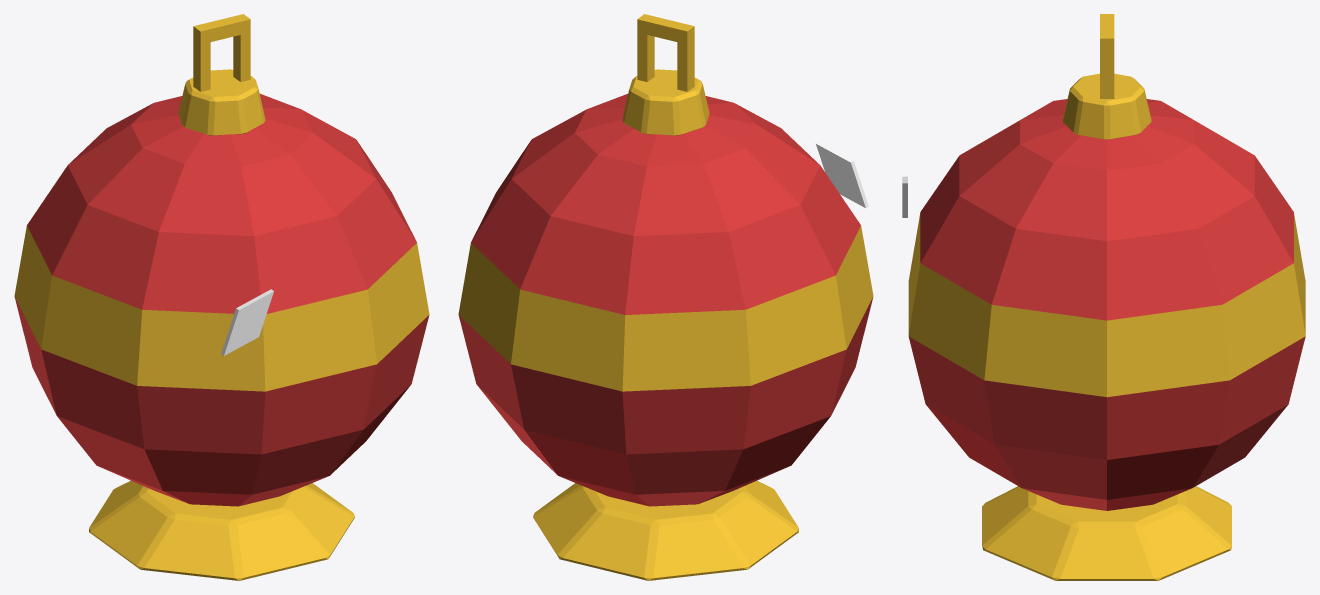
Rendered from christmas-ball-1x1.glb.
The picture shows the model from 3 angles, left to right: view 1: azimuth 30°, elevation 25°; view 2: azimuth 150°, elevation 25°; view 3: azimuth 270°, elevation 25°; orthographic projection.
Visible parts, largest first — view 1: christmas-ball-1x1; view 2: christmas-ball-1x1; view 3: christmas-ball-1x1.
Boxes of the visible parts, x1,y1,x2,y2 form: christmas-ball-1x1: [14, 14, 429, 580]; christmas-ball-1x1: [458, 14, 873, 580]; christmas-ball-1x1: [902, 14, 1305, 580].
Size of the model in its own units: 0.9 by 1.19 by 0.8695.
1 material, 1 textured.
